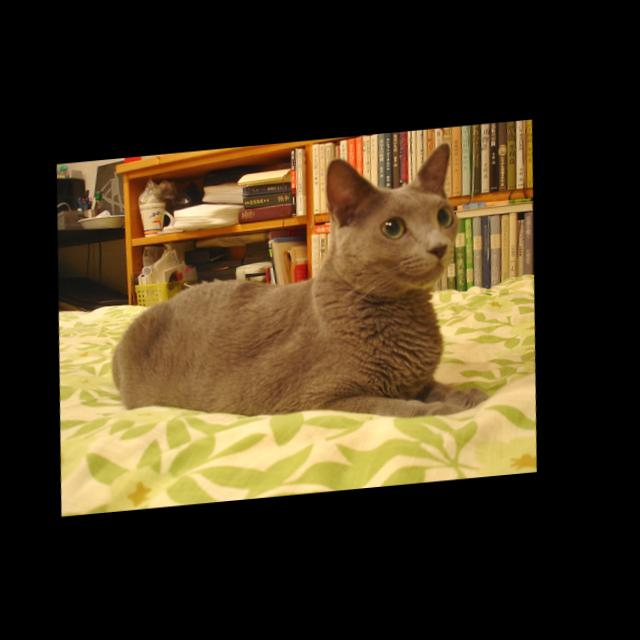animals: (331, 144, 457, 267)
